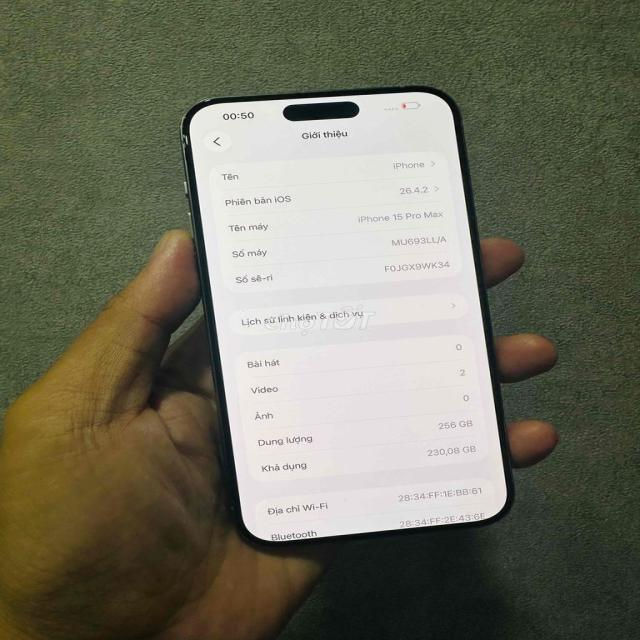gen_15: (154, 88, 522, 546)
